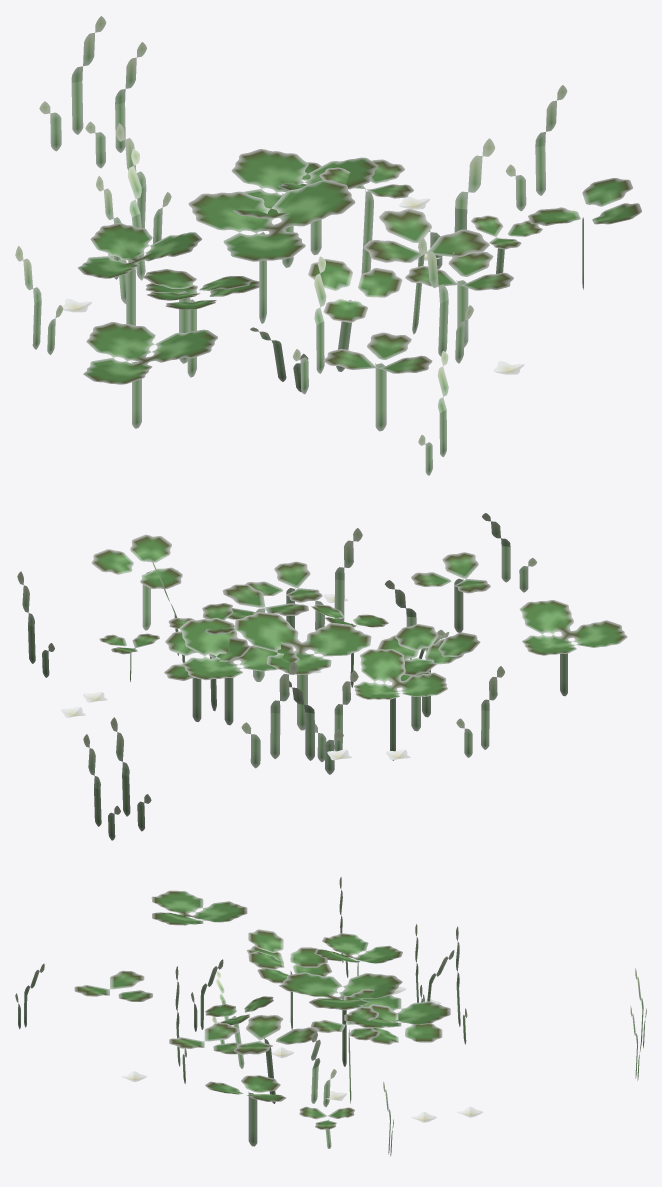
File: Clover Clusters.fbx
3 renders of one model, top to bottom at view 1: azimuth 30°, elevation 25°; view 2: azimuth 150°, elevation 25°; view 3: azimuth 270°, elevation 25°, orthographic. The views are drawn at different scales.
Parts seen in each view (by area): view 1: Clover c, Clover b, Clover a; view 2: Clover b, Clover c, Clover a; view 3: Clover c, Clover b, Clover a.
Boxes of the visible parts, x1=… form: Clover c: x1=78, y1=149, x2=542, y2=392; Clover b: x1=15, y1=16, x2=641, y2=475; Clover a: x1=90, y1=123, x2=513, y2=394; Clover b: x1=17, y1=513, x2=627, y2=840; Clover c: x1=99, y1=584, x2=463, y2=774; Clover a: x1=83, y1=561, x2=480, y2=768; Clover c: x1=205, y1=933, x2=454, y2=1148; Clover b: x1=15, y1=877, x2=646, y2=1156; Clover a: x1=169, y1=924, x2=467, y2=1122.
Size of the model in its own units: 140 by 34.91 by 168.
